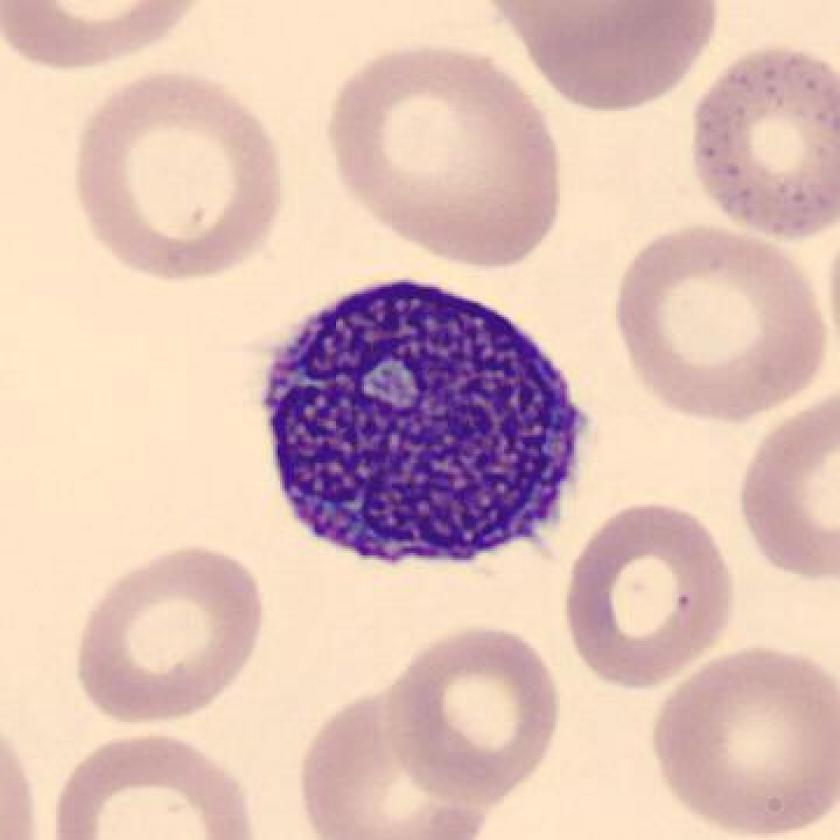monocyte: (239, 263, 612, 594)
